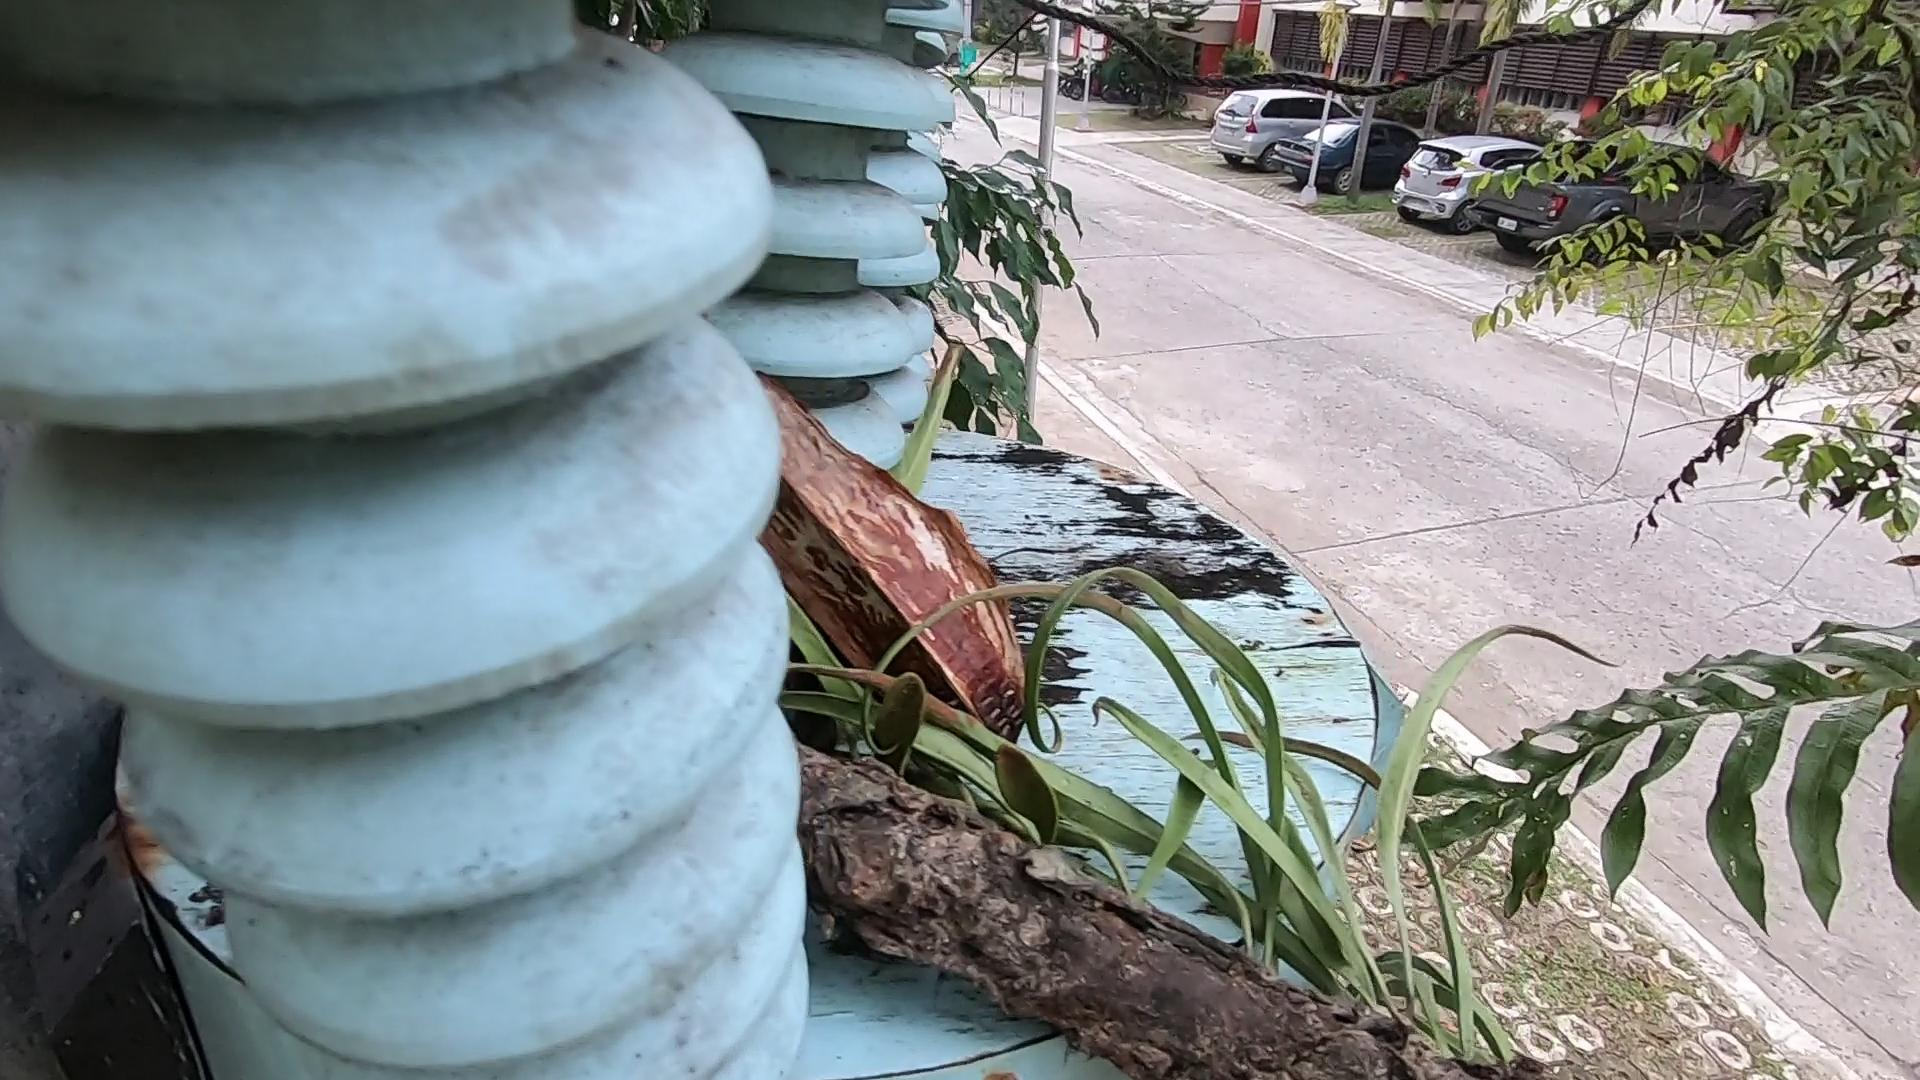branch with leaves: (814, 756, 1456, 1080)
mahogany fruit: (593, 208, 1331, 728)
